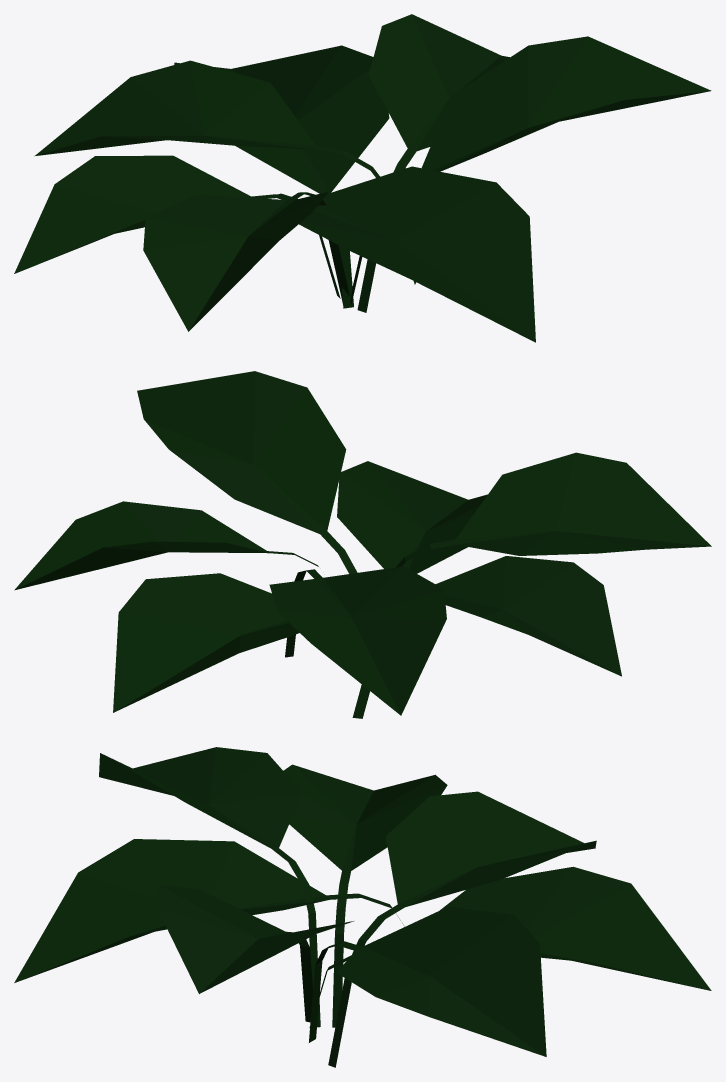
The model's file is SM_GroundPlant_02.obj.
3 views of the same model, one above another, from view 1: azimuth 30°, elevation 25°; view 2: azimuth 150°, elevation 25°; view 3: azimuth 270°, elevation 25° (orthographic). The views are drawn at different scales.
Visible parts, largest first — view 1: SM_GroundPlant_02; view 2: SM_GroundPlant_02; view 3: SM_GroundPlant_02.
Boxes of the visible parts, box(x1,y1,x2,y2) form: SM_GroundPlant_02: box(14, 14, 711, 342); SM_GroundPlant_02: box(14, 371, 711, 718); SM_GroundPlant_02: box(14, 747, 711, 1067).
Size of the model in its own units: 1.69 by 0.5881 by 1.65.
